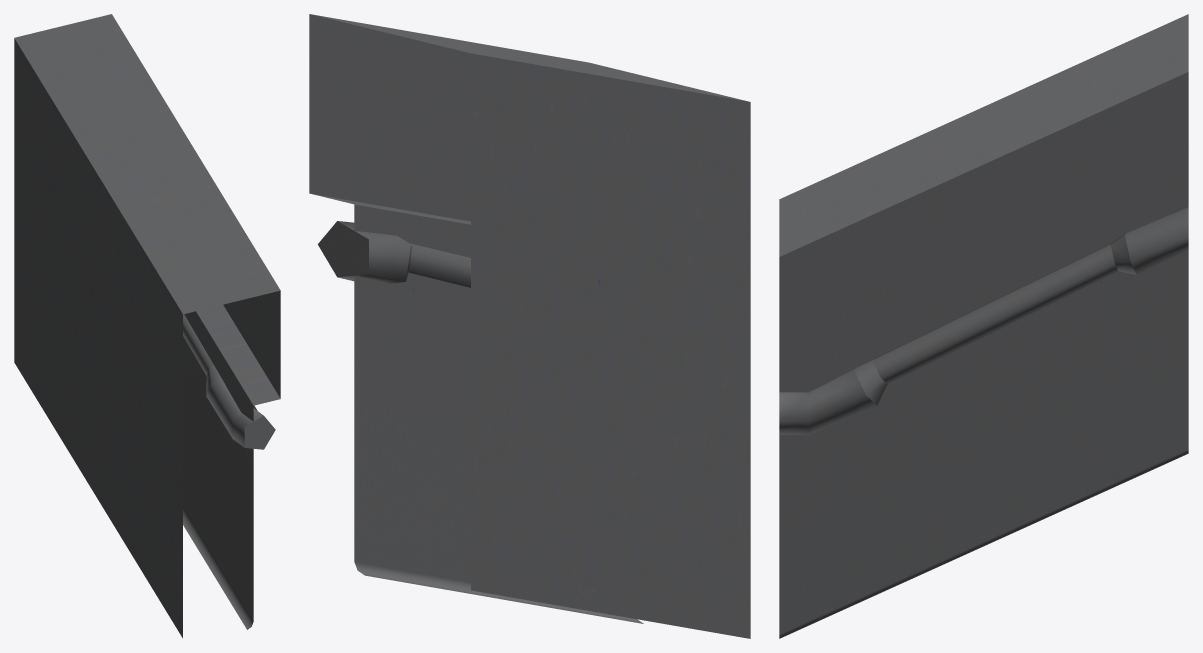
File: SM_walkway_trim_diagonal_b_100.fbx
3 renders of one model, left to right at view 1: azimuth 30°, elevation 25°; view 2: azimuth 150°, elevation 25°; view 3: azimuth 270°, elevation 25°, orthographic. The views are drawn at different scales.
Parts seen in each view (by area): view 1: roomBlocks_smalltrim_b4; view 2: roomBlocks_smalltrim_b4; view 3: roomBlocks_smalltrim_b4.
Boxes of the visible parts, left/top/right/bottom form: roomBlocks_smalltrim_b4: left=14, top=14, right=280, bottom=638; roomBlocks_smalltrim_b4: left=309, top=14, right=750, bottom=638; roomBlocks_smalltrim_b4: left=779, top=14, right=1188, bottom=638.
Size of the model in its own units: 0.3338 by 1.58 by 1.
